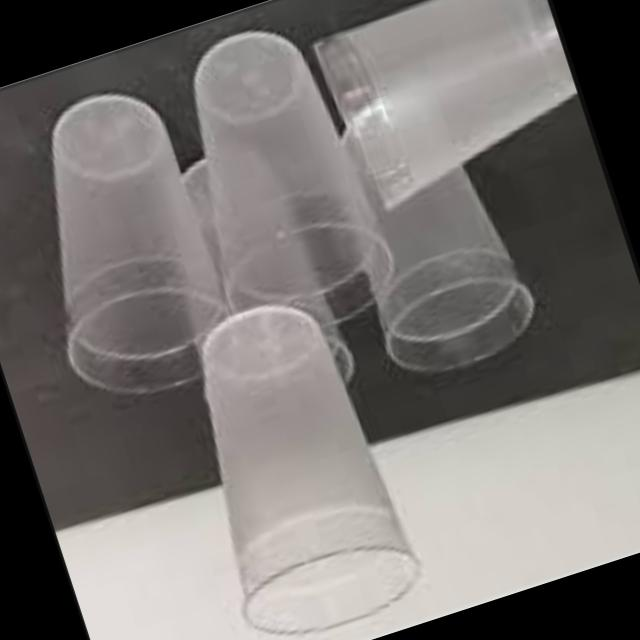GelasPlastik: (0, 19, 412, 410), (159, 282, 433, 640), (298, 90, 552, 402)
